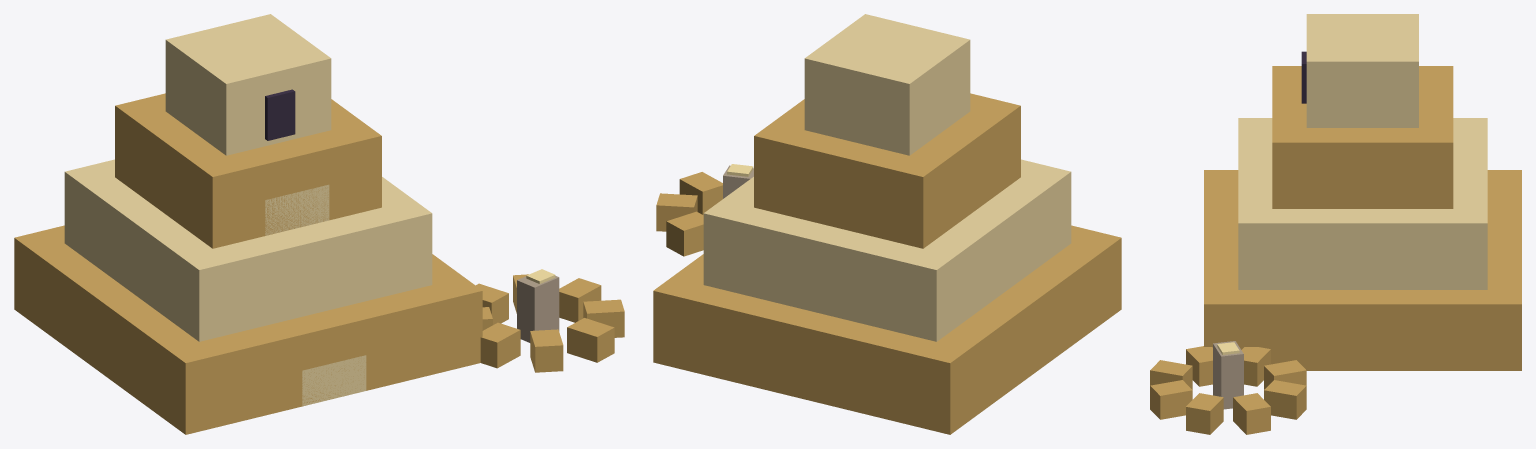
File: sand-g1.glb
3 views of the same model, side by side, from view 1: azimuth 30°, elevation 25°; view 2: azimuth 150°, elevation 25°; view 3: azimuth 270°, elevation 25° (orthographic). The views are drawn at different scales.
Parts seen in each view (by area): view 1: sand-g1; view 2: sand-g1; view 3: sand-g1.
Part boxes in pixels (x1,y1,x2,y2): sand-g1: (14, 14, 624, 434); sand-g1: (653, 14, 1121, 434); sand-g1: (1150, 14, 1521, 434).
Size of the model in its own units: 1.92 by 1.2 by 1.52.
